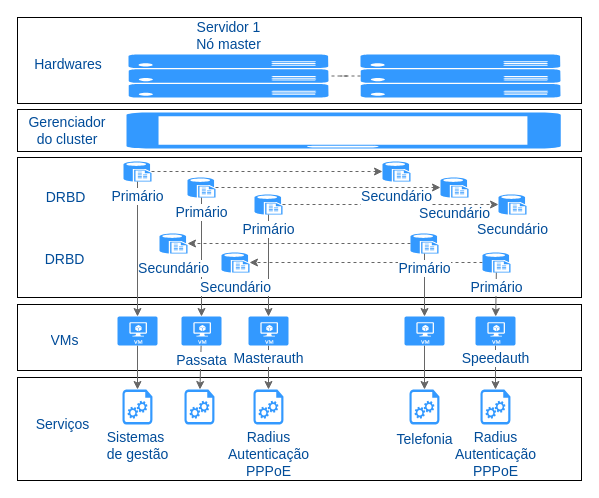
This 599x498 diagram has some shape labels left out. The box of each missing label's shape, as (x1, y1, x2, y2) in pixels:
DNS recursivo: (184, 389, 214, 424)
Ganeti: (125, 112, 561, 148)
Servidor 2 Nó: (360, 54, 560, 97)
SimplesIP: (404, 316, 444, 345)
Soldi: (117, 316, 157, 345)
